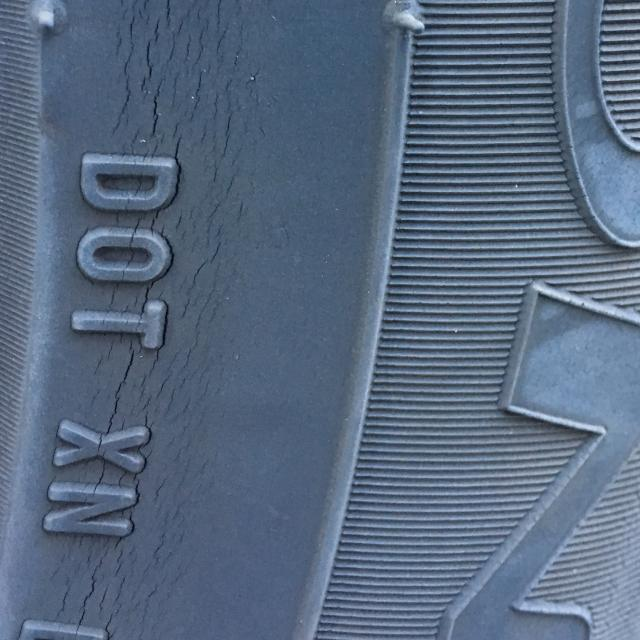Cracks: (18, 0, 272, 640)
